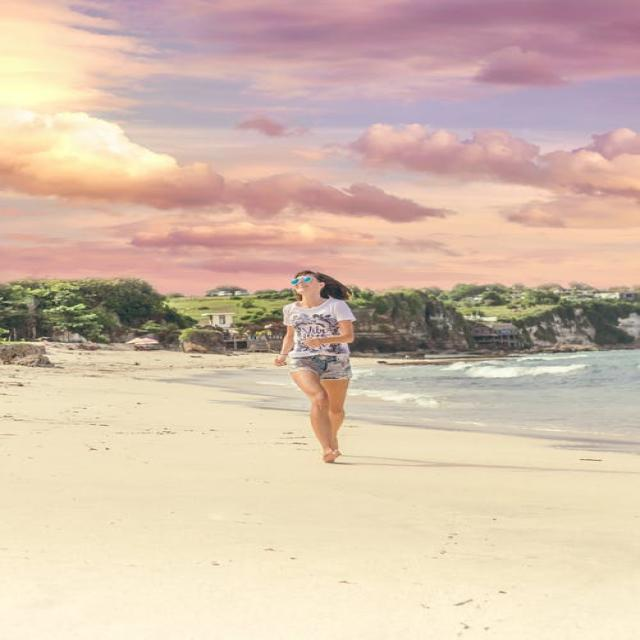running: (274, 268, 360, 463)
